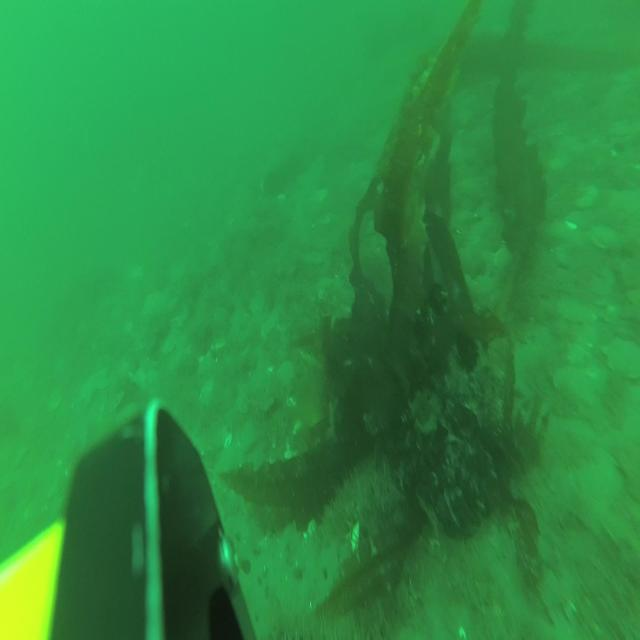scallop: (554, 361, 598, 406), (605, 333, 640, 382), (590, 221, 620, 255), (272, 363, 296, 400)
